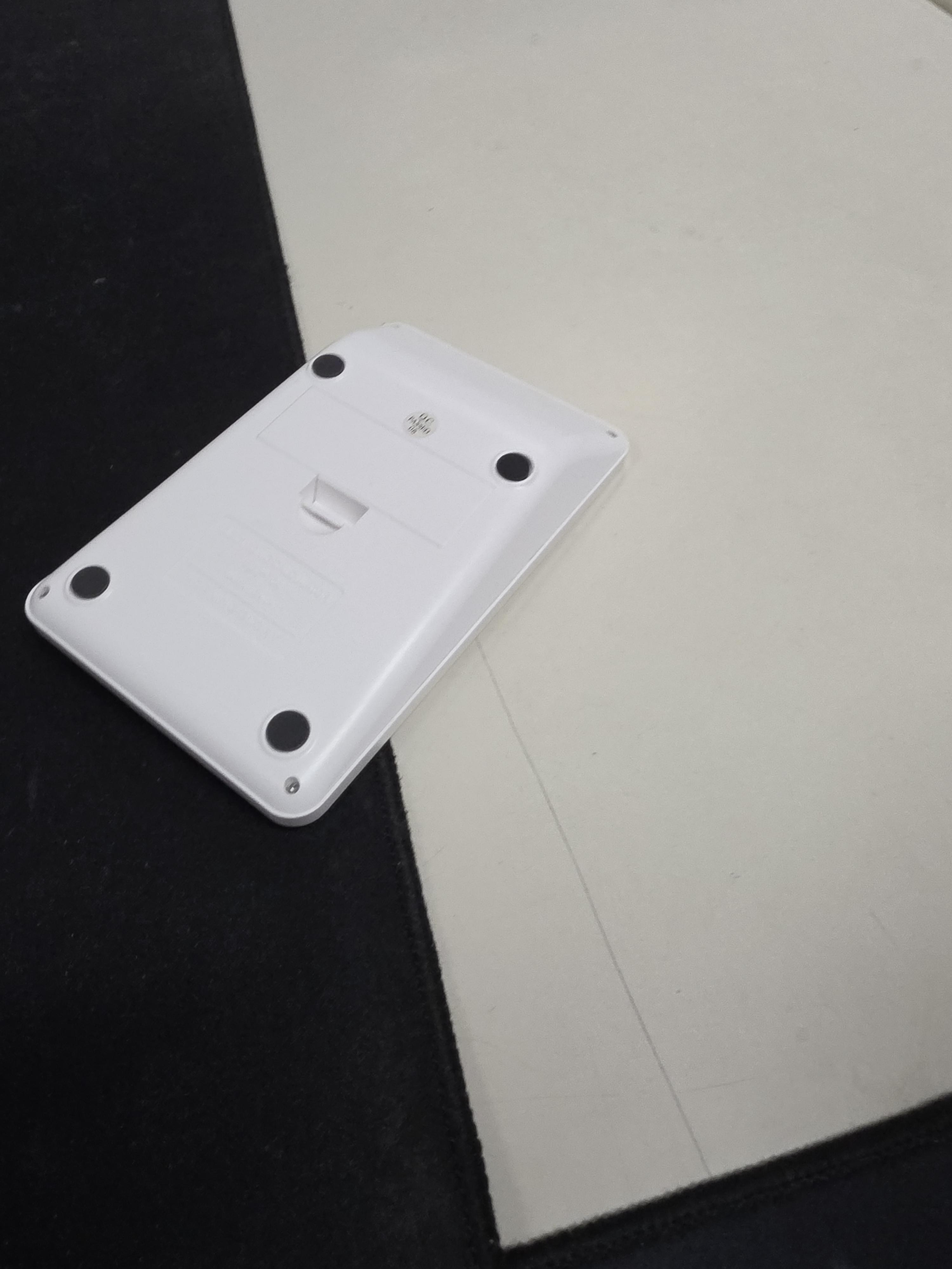calculator: (24, 322, 631, 827)
